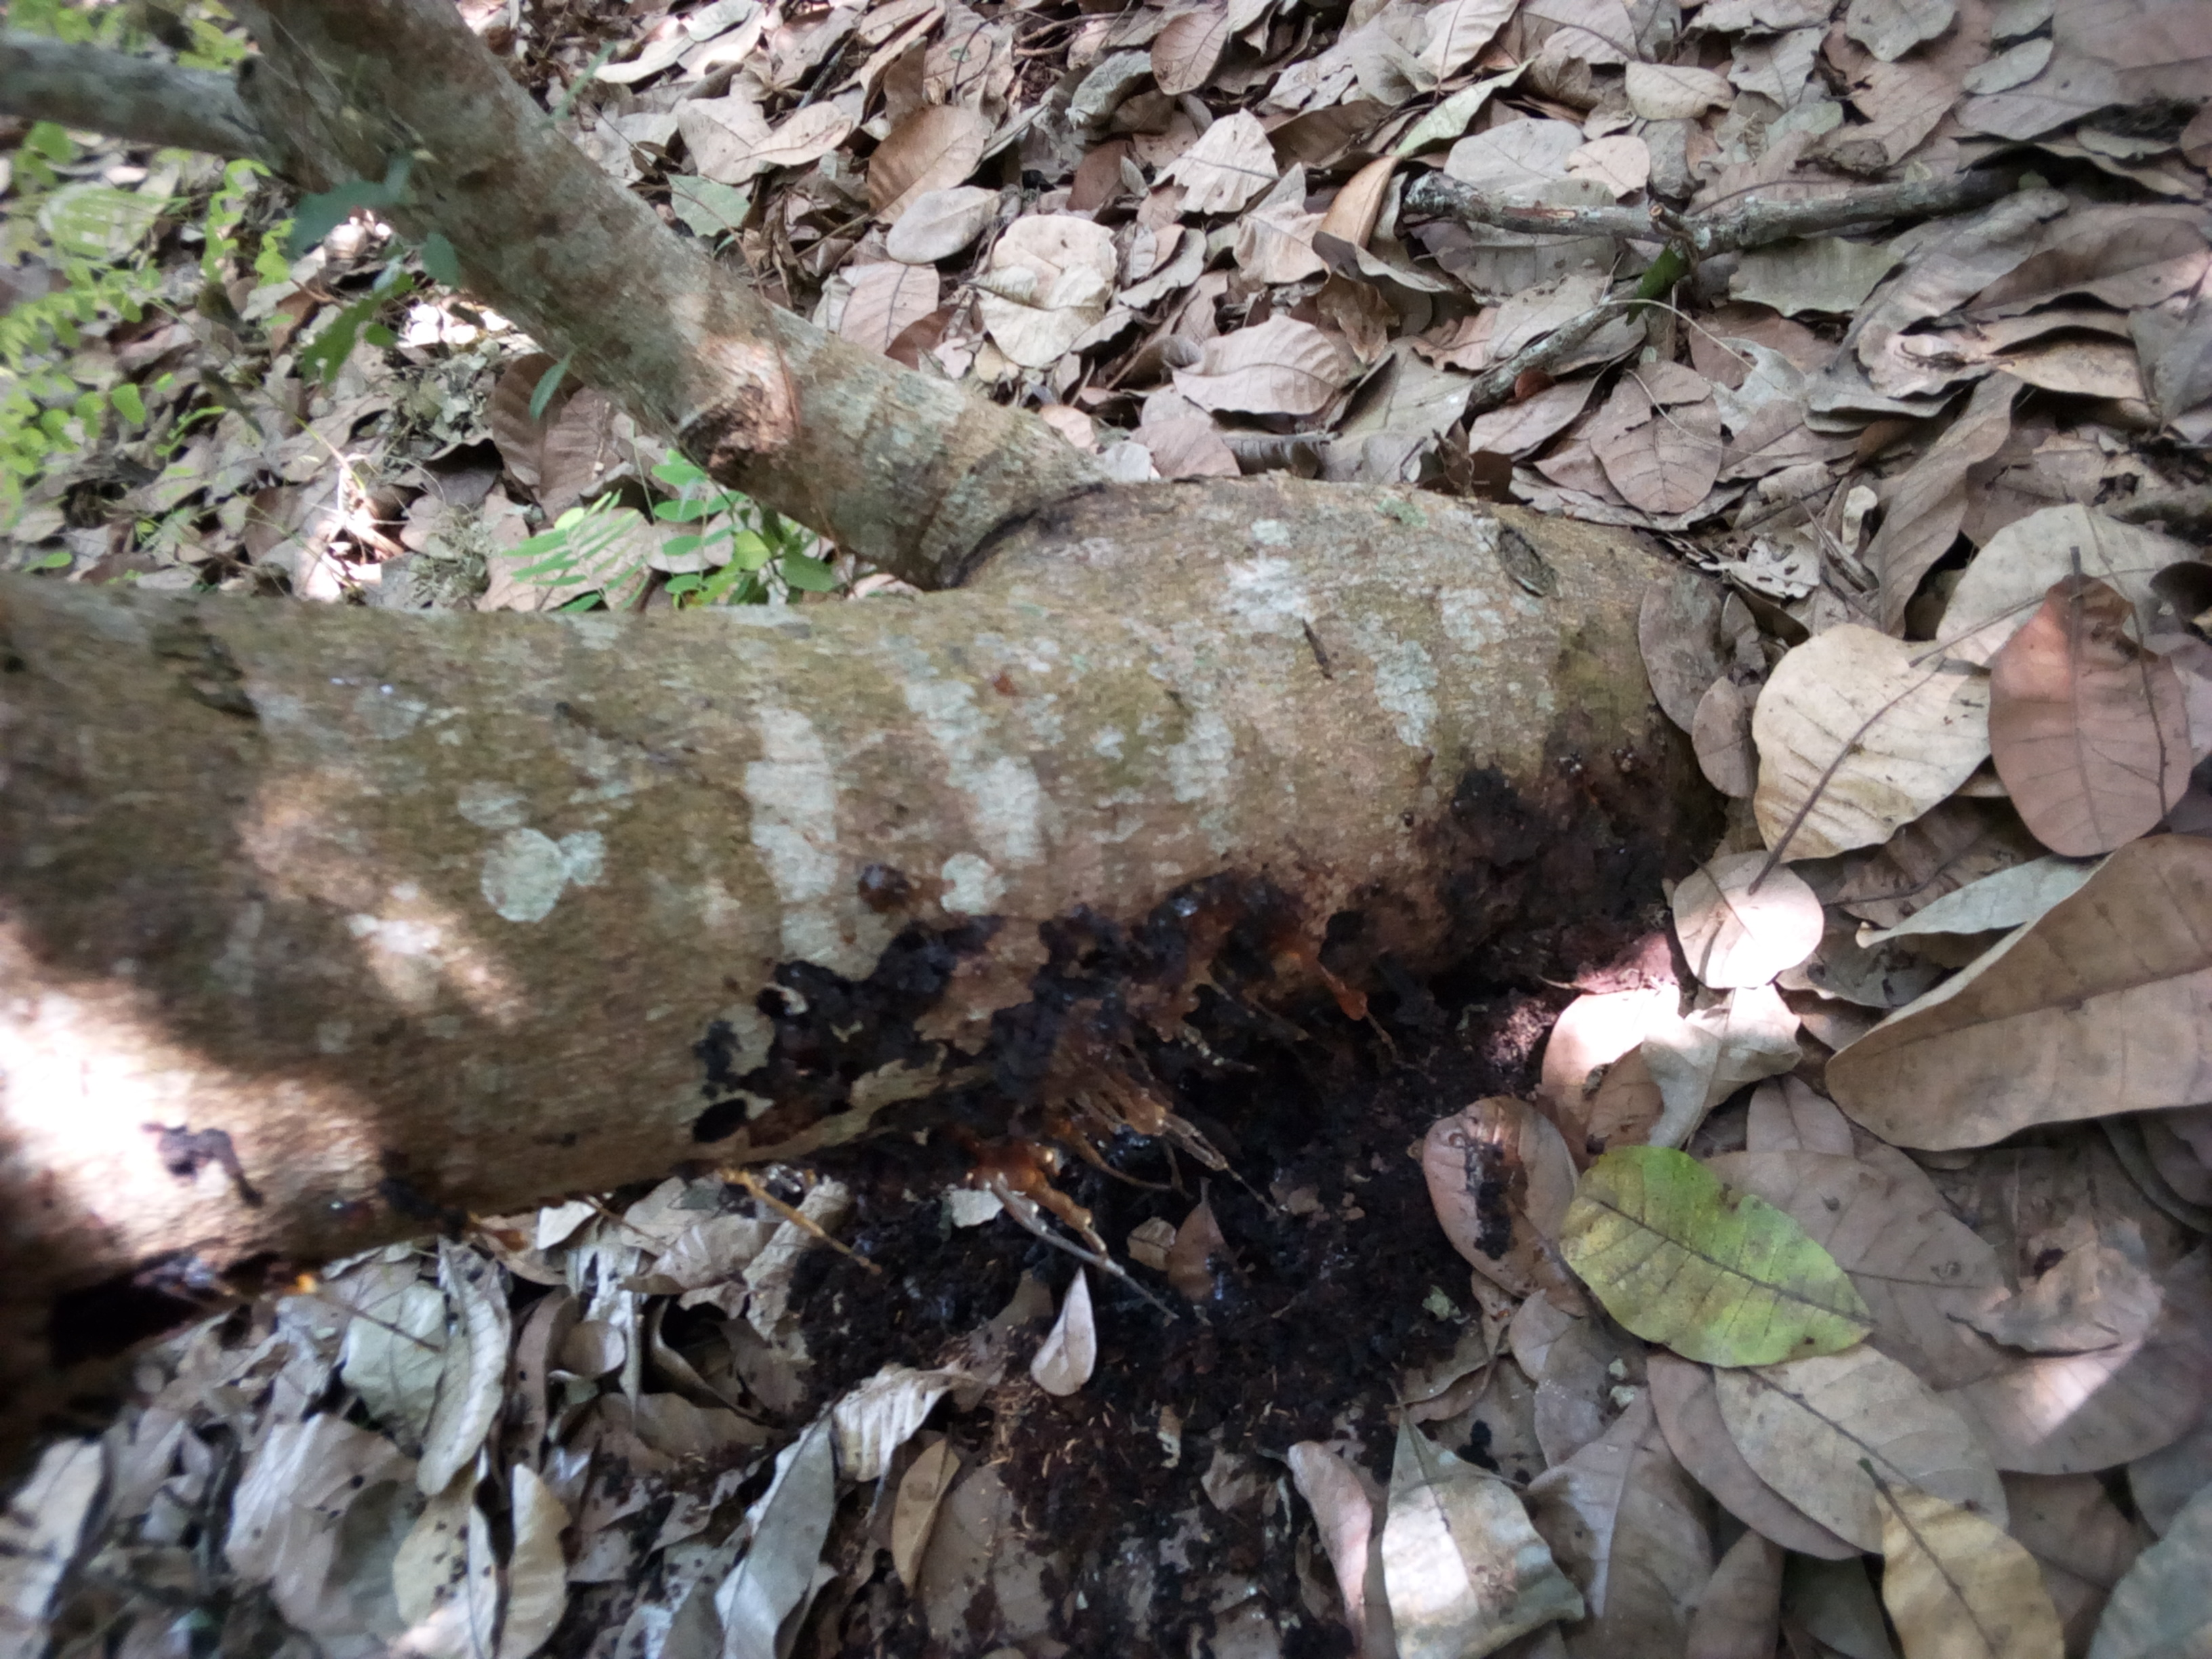Gommose: (717, 859, 1540, 1376)
